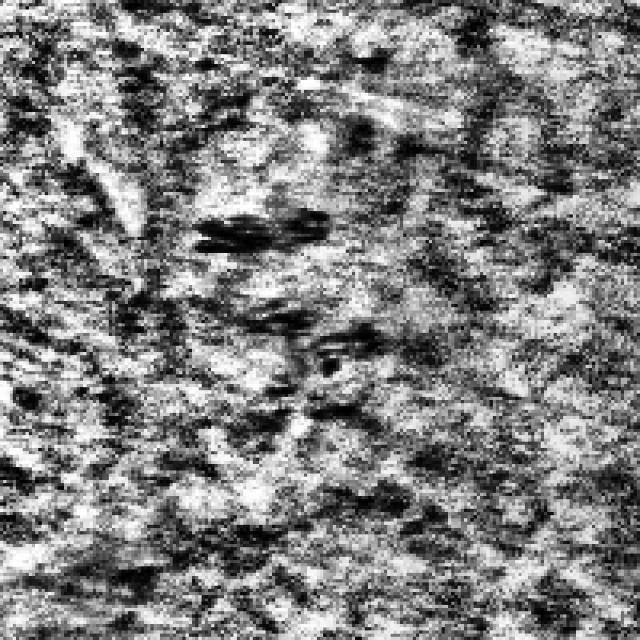Crazing: (237, 272, 426, 509), (198, 195, 339, 259)
